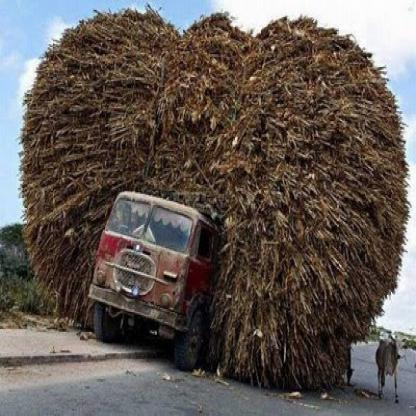overloaded-truck: (23, 19, 416, 363)
